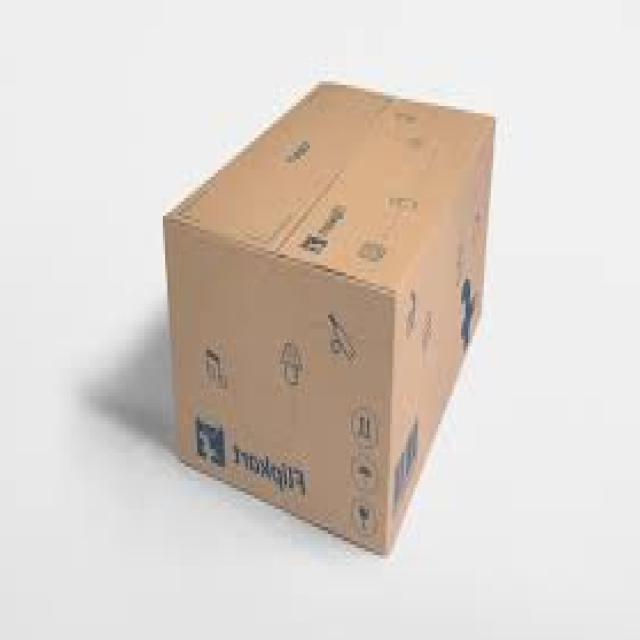cardboxes: (162, 82, 499, 561)
